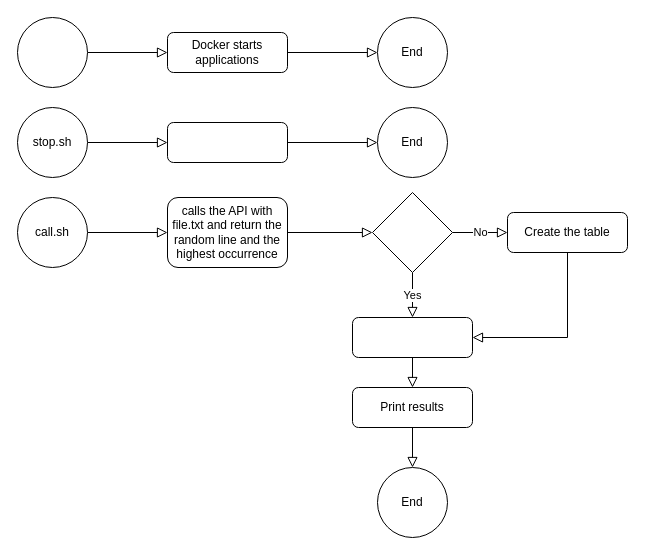
This 645x555 diagram has some shape labels left out. The shapes that lost their labels are listed below. From the top down, each one's centre as x and y in pixels, then its label:
At pixel 52 52: "start.sh".
At pixel 227 142: "Docker drops applications".
At pixel 412 232: "Table is Created?".
At pixel 412 337: "Insert values into Table".
